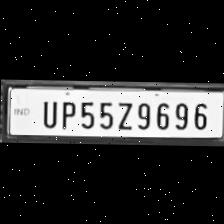5: (76, 97, 96, 128), (96, 97, 114, 128)
6: (189, 99, 209, 128), (152, 98, 170, 128)
9: (132, 98, 152, 128), (171, 98, 189, 128)
P: (56, 96, 76, 128)
U: (36, 96, 58, 126)
Z: (114, 97, 132, 128)
